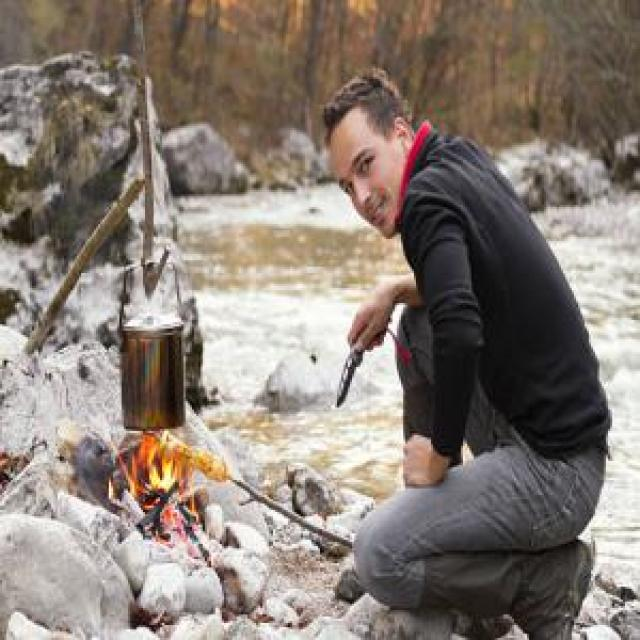knife: (335, 324, 375, 422)
